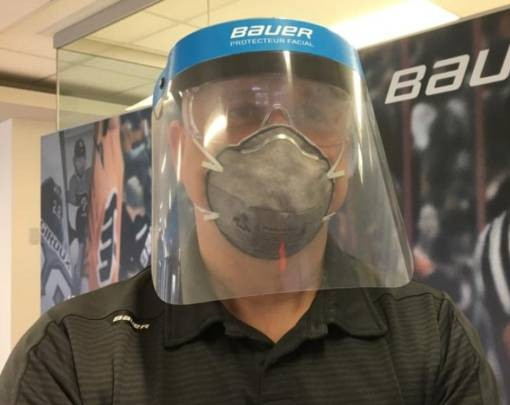with_mask: (159, 21, 389, 296)
